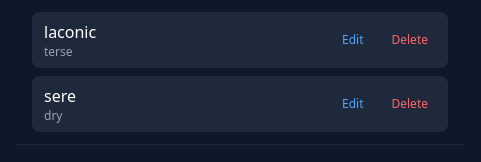
Test case: MyWordsList › cancels a delete
Click the button with aria-label "Delete sere". click: click(410, 104)
box: [384,92,436,116]
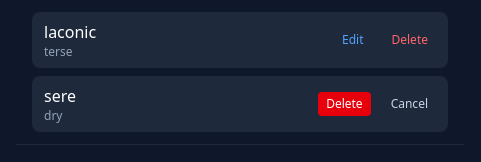
Click the button "Cancel". click: click(409, 104)
box: [383,92,436,116]
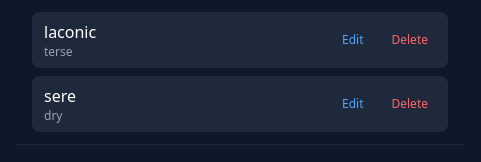
Result: the button with aria-label "Delete sere" is shown at [384,92,436,116]
